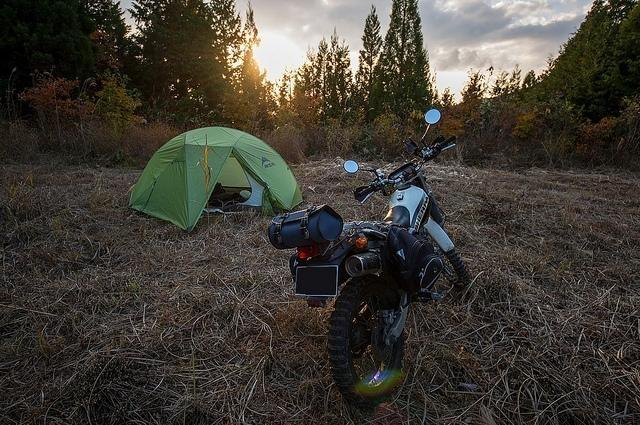motorcycle: (284, 108, 468, 406)
